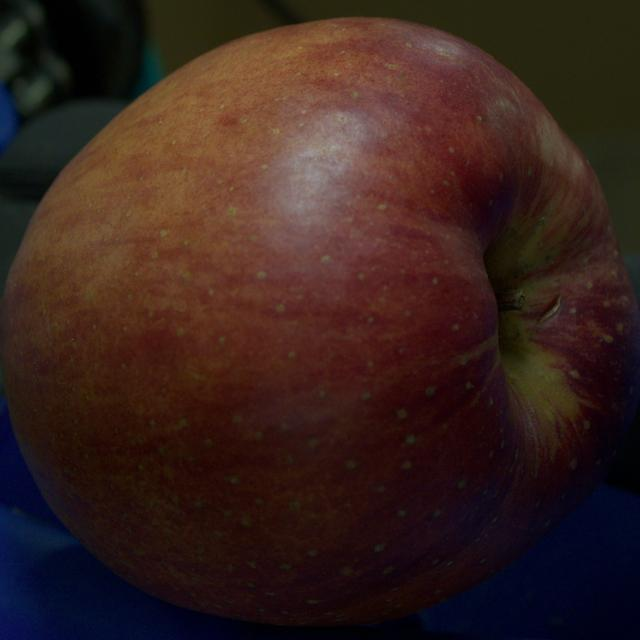apple: (0, 18, 639, 626)
scratch: (539, 295, 561, 323)
